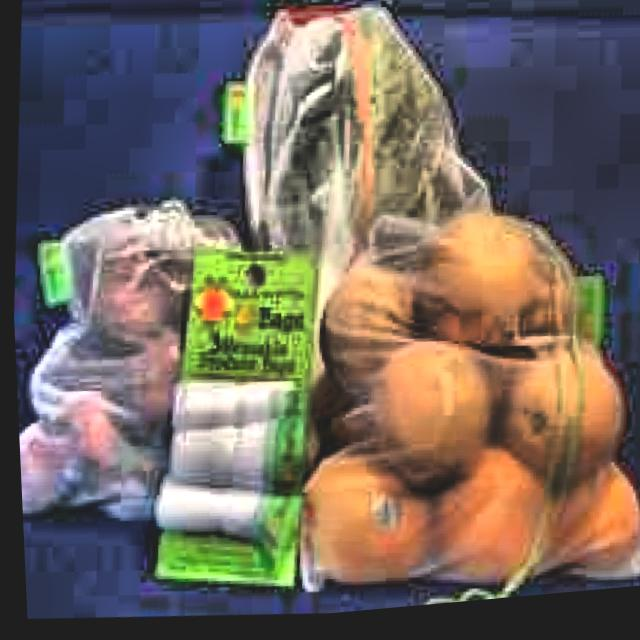Plastic: (289, 189, 640, 620), (11, 189, 269, 544)
